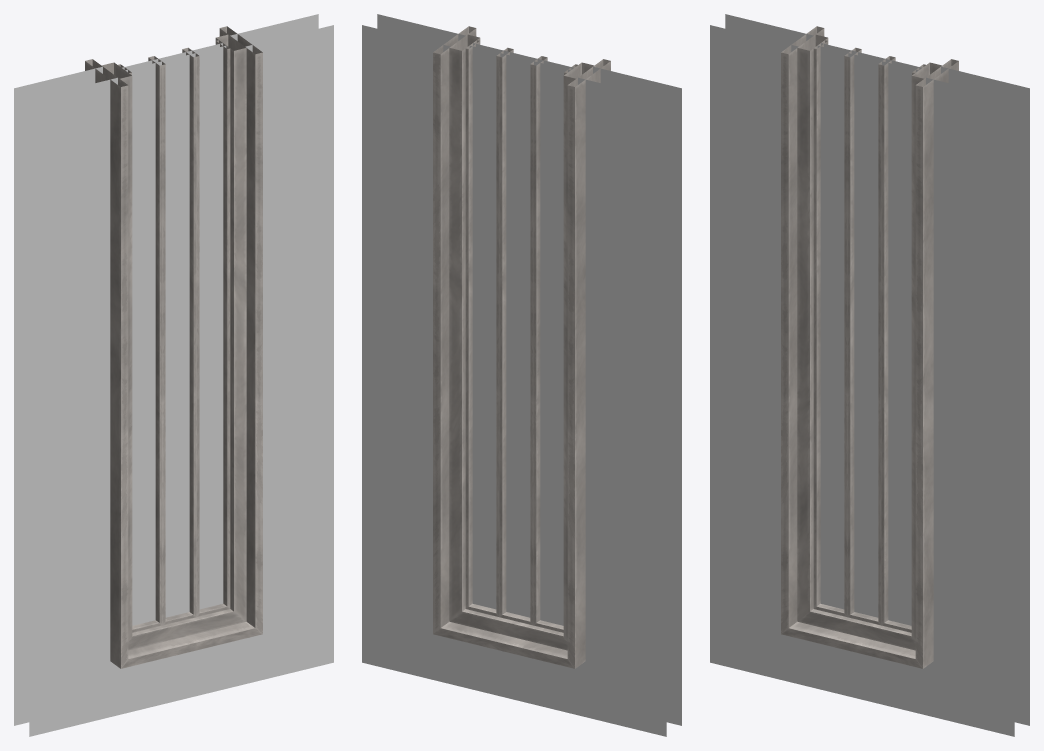
File: Wall_Window_C_E.fbx
3 renders of one model, left to right at view 1: azimuth 30°, elevation 25°; view 2: azimuth 150°, elevation 25°; view 3: azimuth 330°, elevation 25°, orthographic.
Visible parts, largest first — view 1: Wall_Window_C_E; view 2: Wall_Window_C_E; view 3: Wall_Window_C_E.
Boxes of the visible parts, x1,y1,x2,y2 form: Wall_Window_C_E: [14, 14, 333, 736]; Wall_Window_C_E: [362, 14, 681, 736]; Wall_Window_C_E: [710, 14, 1029, 736].
Size of the model in its own units: 3 by 0.6115 by 6.
